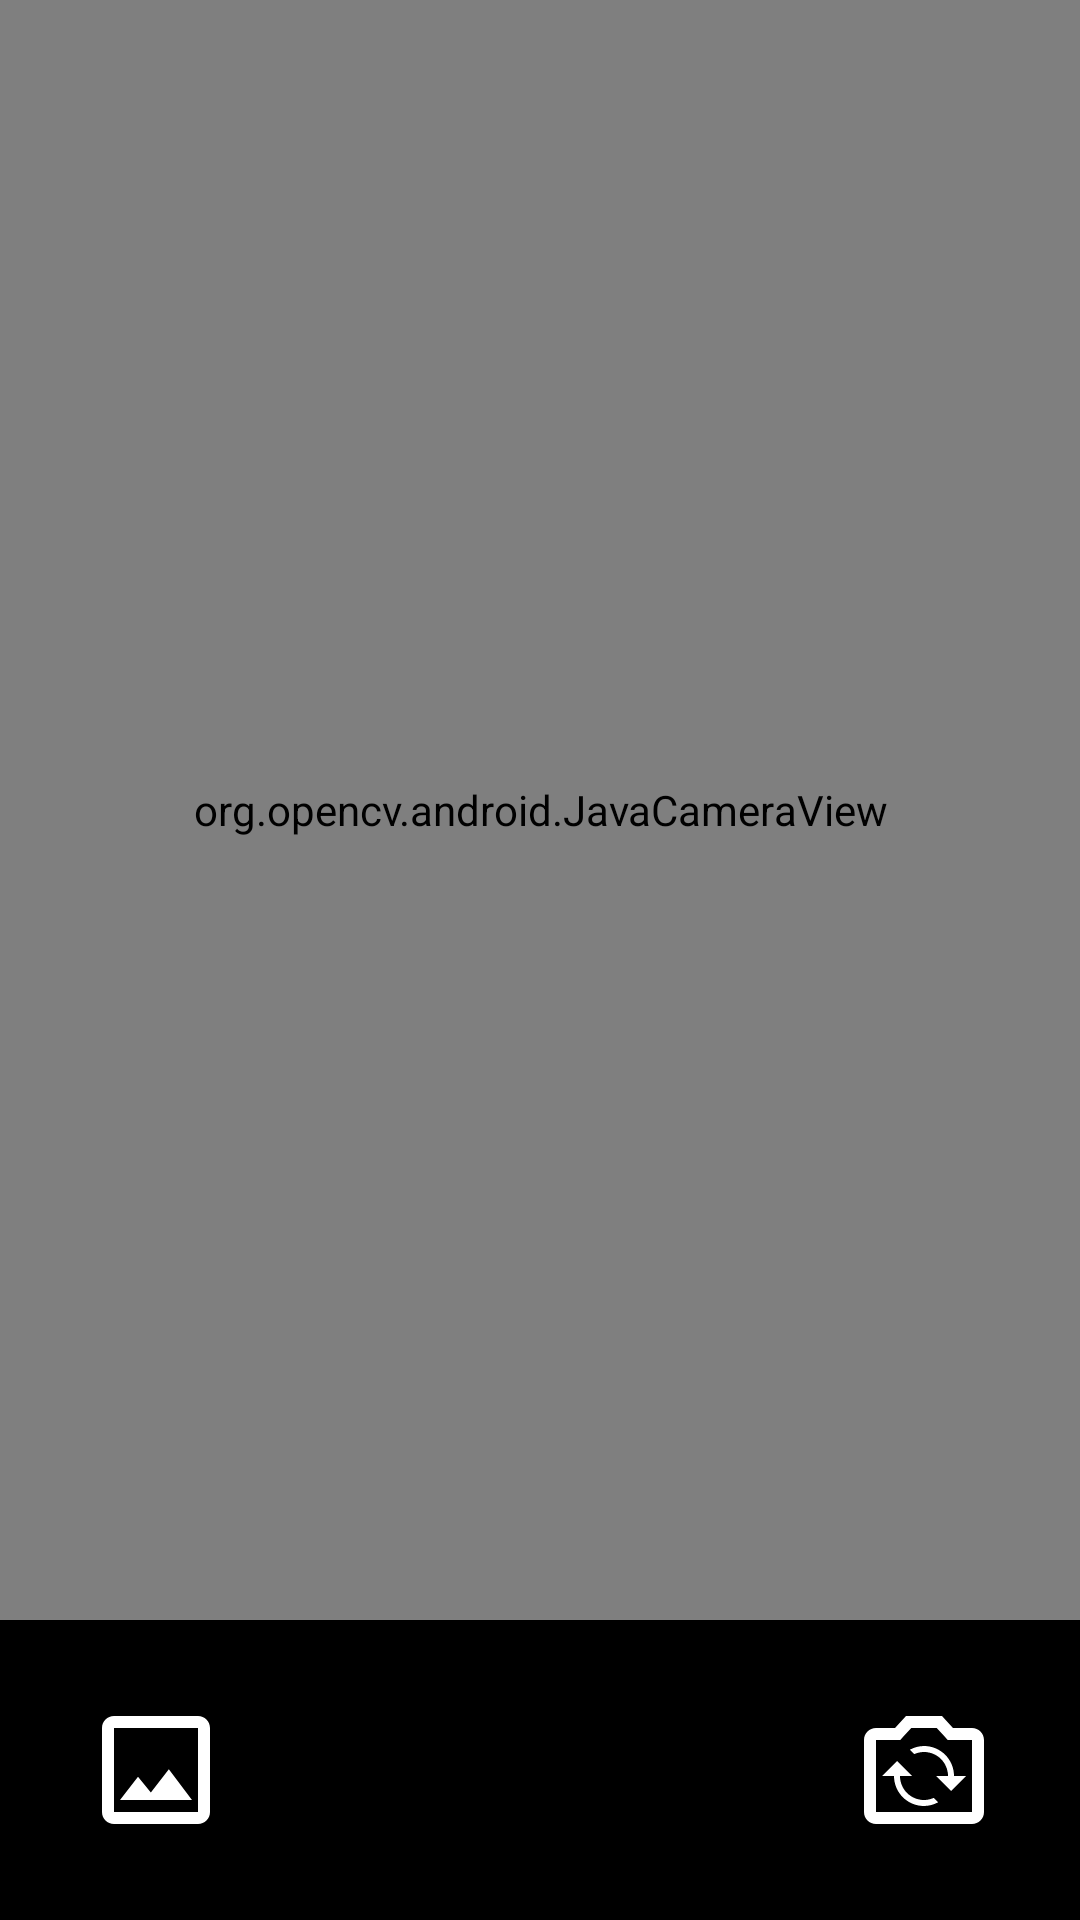

Icons on this 1080x1920 Android screen, each with the point to tap as [x,y]:
flip camera: [924,1770]
gallery: [156,1770]
